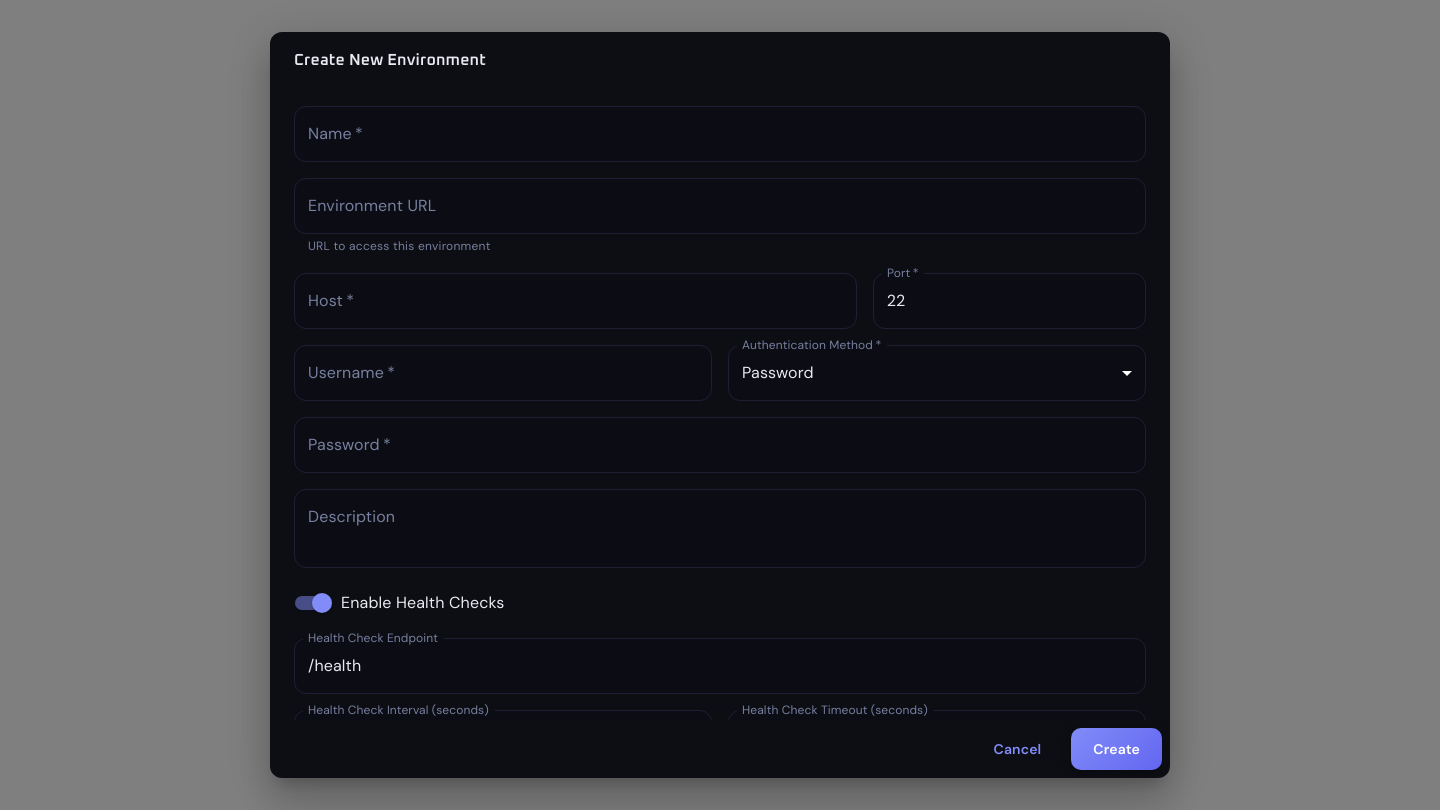
Test case: CreateEnvironmentDialog › shows password required error when credentials type is password
// Fill name and host but not password
Type "Test Env" into the field labelled "Name *" at {"x": 720, "y": 134}, box [294,106,1146,162]
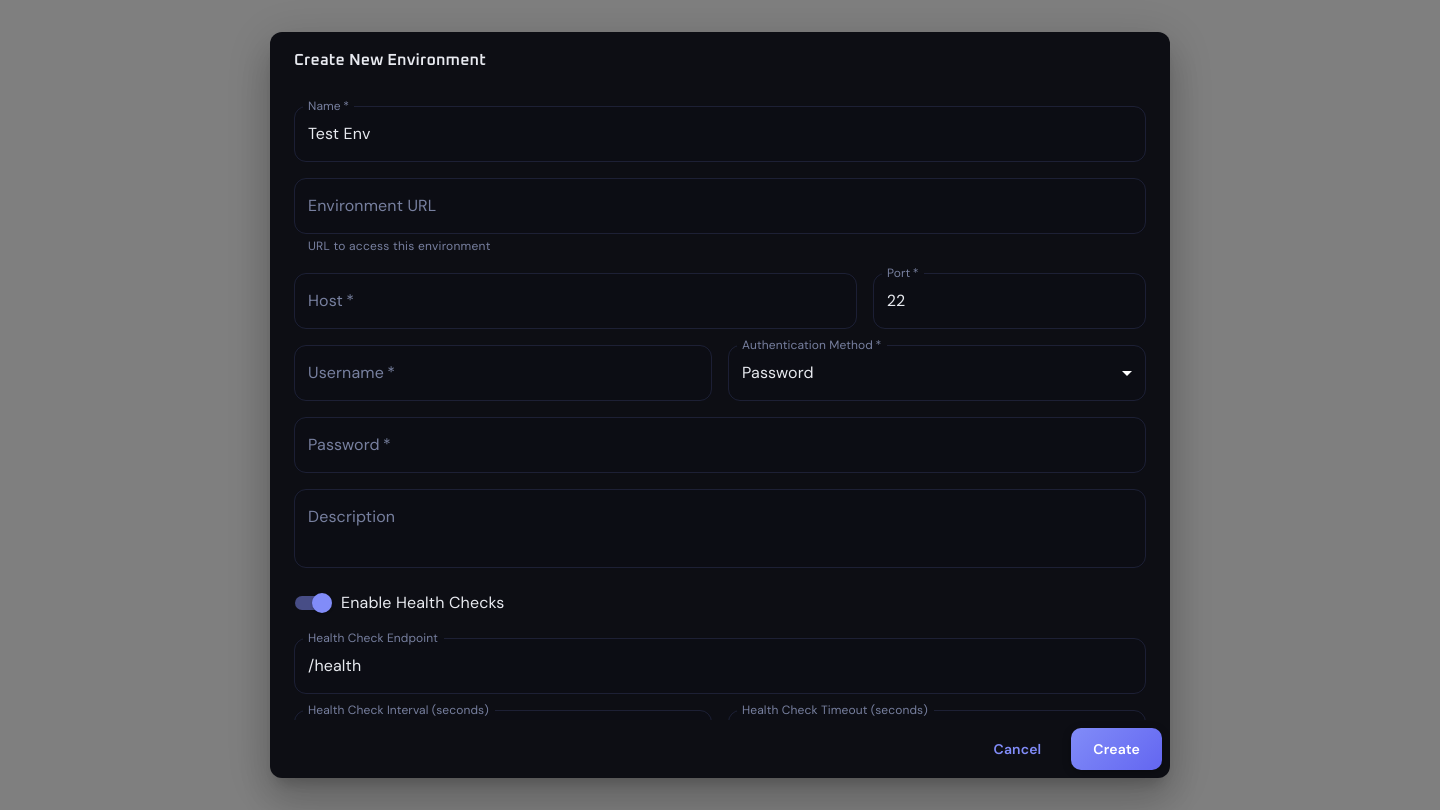
Type "example.com" into the field labelled "Host *" at {"x": 575, "y": 300}, box [294,272,857,328]
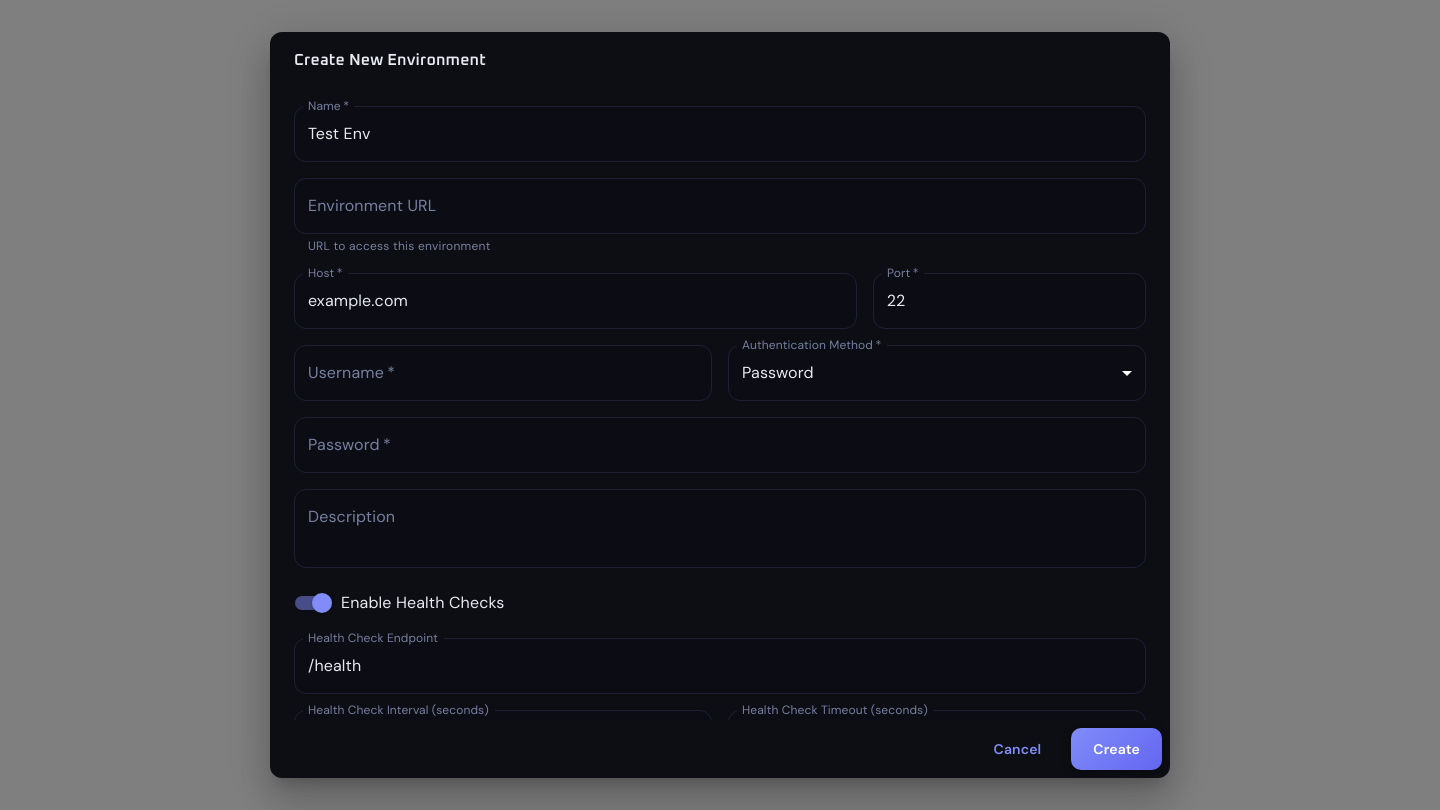
Type "admin" into the field labelled "Username *" at {"x": 503, "y": 372}, box [294,344,712,400]
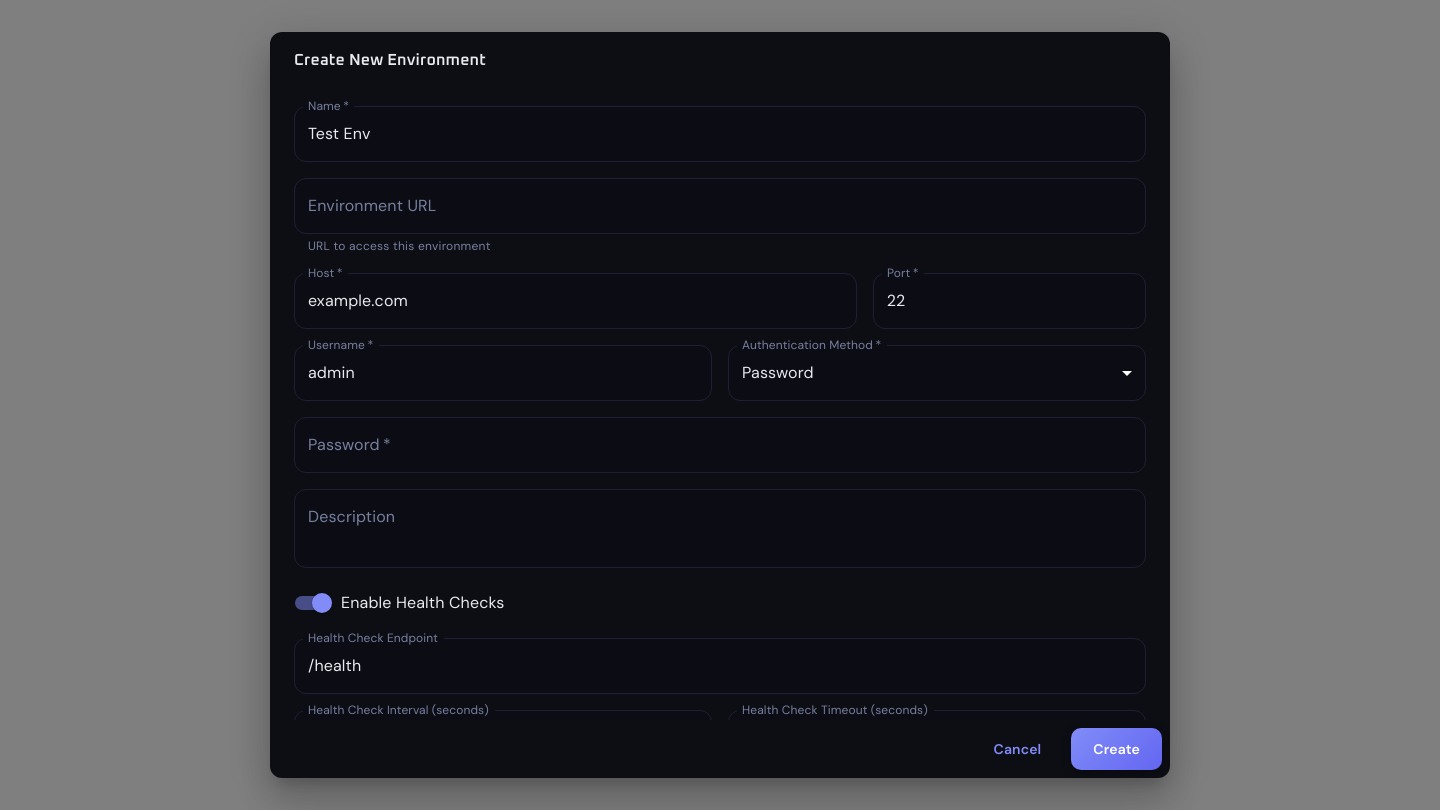
Click the button "Create" at {"x": 1117, "y": 749}, box [1071,728,1162,770]
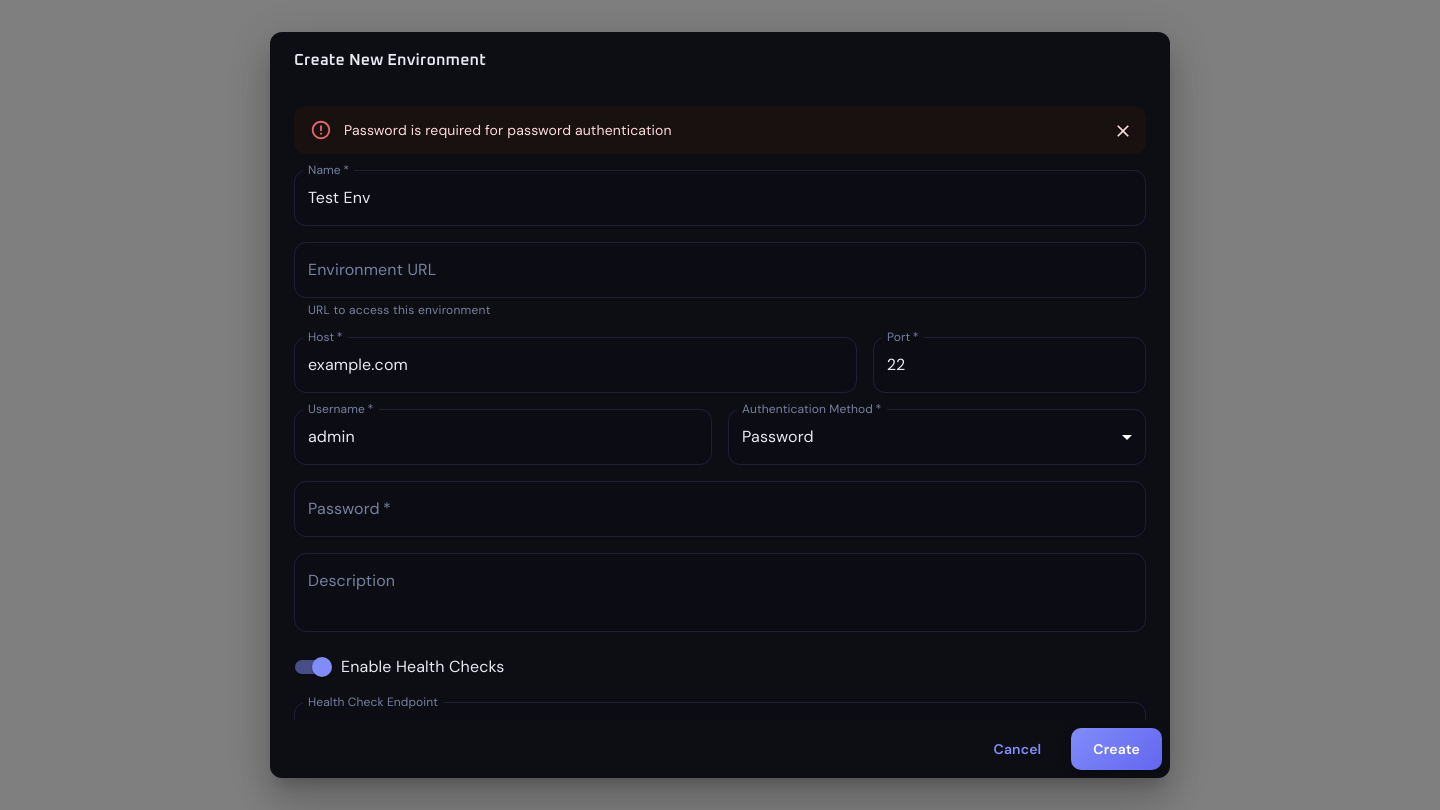
Expected: the text "Password is required for password authentication" is shown, [344,121,672,139]
